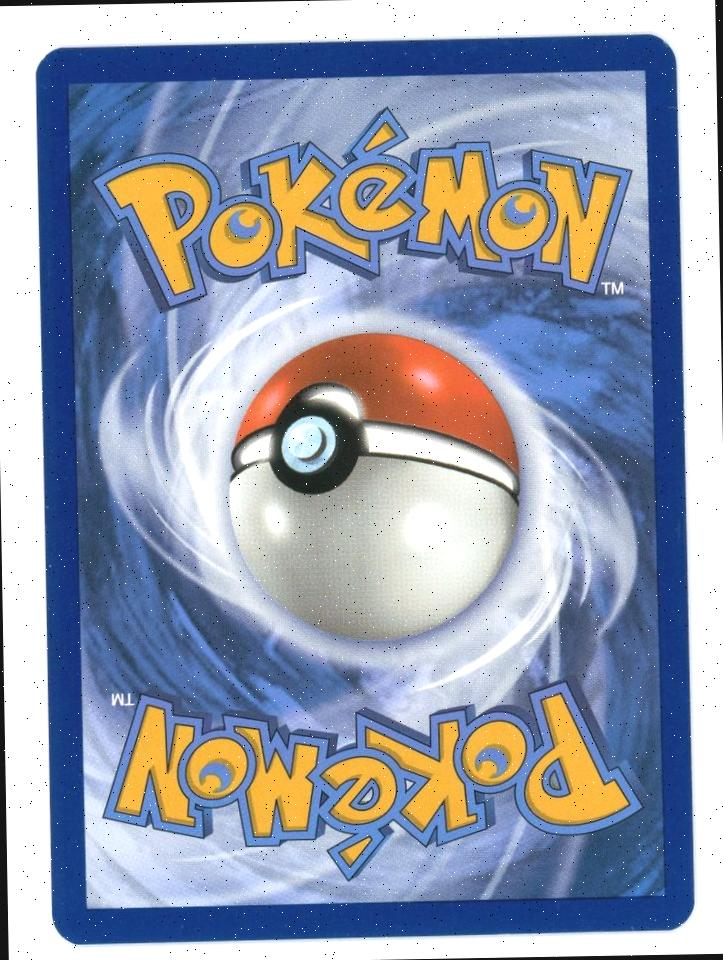card-2UtV: (34, 33, 695, 946)
